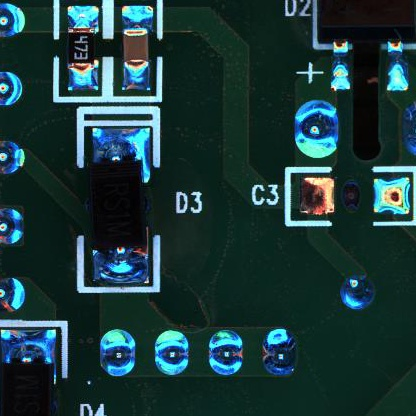spot: (295, 100, 340, 159), (99, 329, 138, 379), (261, 327, 296, 377), (207, 327, 243, 375), (154, 330, 189, 375), (339, 272, 376, 311)
